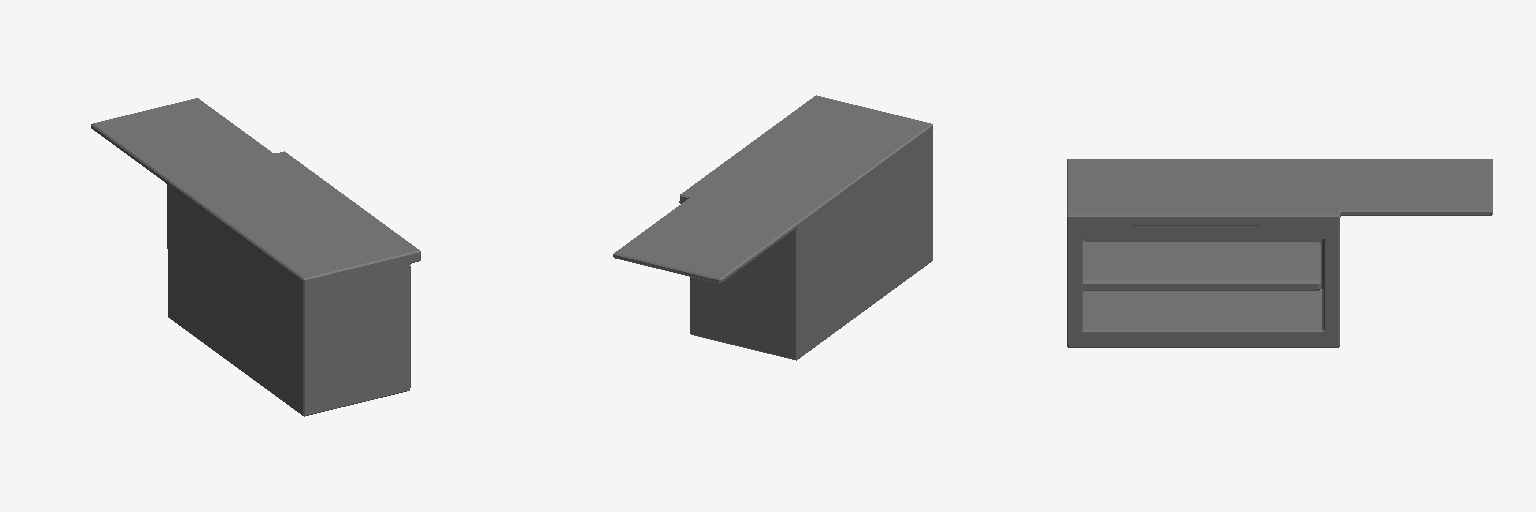
File: counter.obj
3 views of the same model, side by side, from view 1: azimuth 30°, elevation 25°; view 2: azimuth 150°, elevation 25°; view 3: azimuth 270°, elevation 25° (orthographic).
Visible parts, largest first — view 1: pCube80; view 2: pCube80; view 3: pCube80.
Boxes of the visible parts, x1,y1,x2,y2 form: pCube80: [91, 98, 420, 416]; pCube80: [613, 95, 932, 360]; pCube80: [1067, 159, 1492, 347].
Size of the model in its own units: 59.76 by 66.61 by 186.